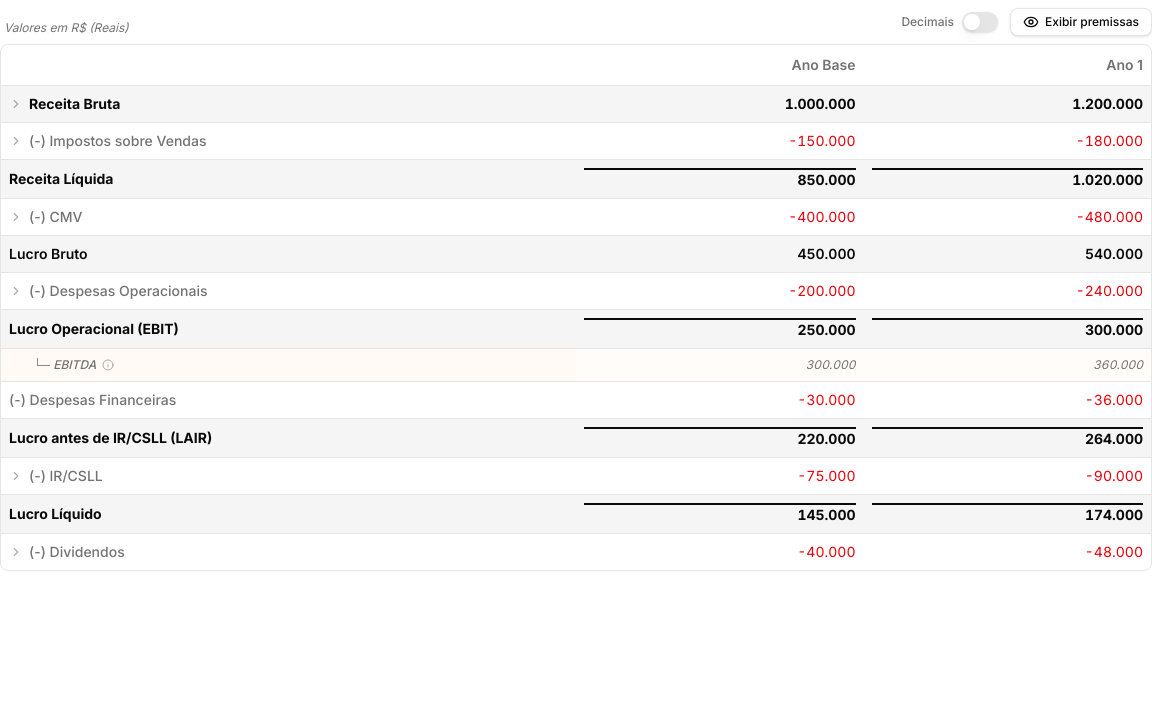
Test case: DRETable › Premissas Inline › deve sincronizar premissas locais quando projectionInputs mudar por props
This screenshot has width=1152, height=720.
Click the button "Exibir premissas".
click(1081, 22)  # box [1010,8,1151,36]
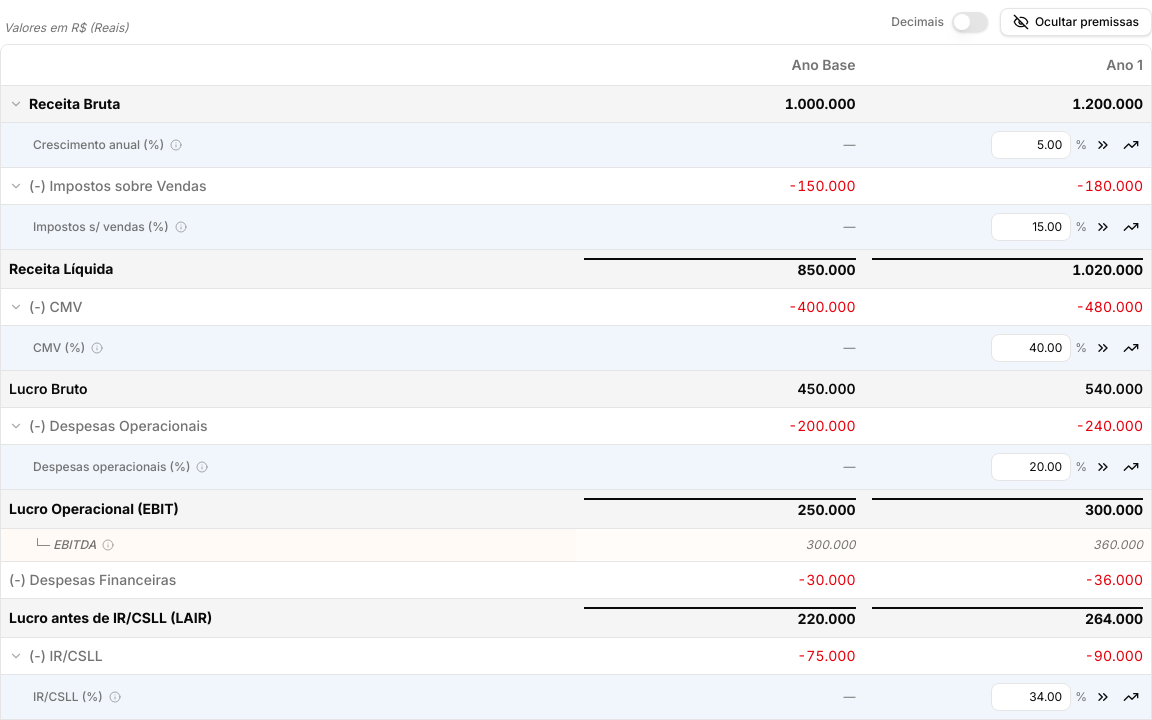
Result: the field showing "5.00" in the row of "Crescimento anual (%)" is shown at [991,130,1071,158]
